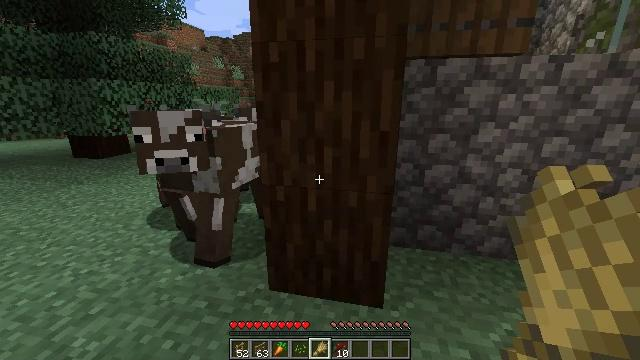cow: (130, 107, 257, 268)
